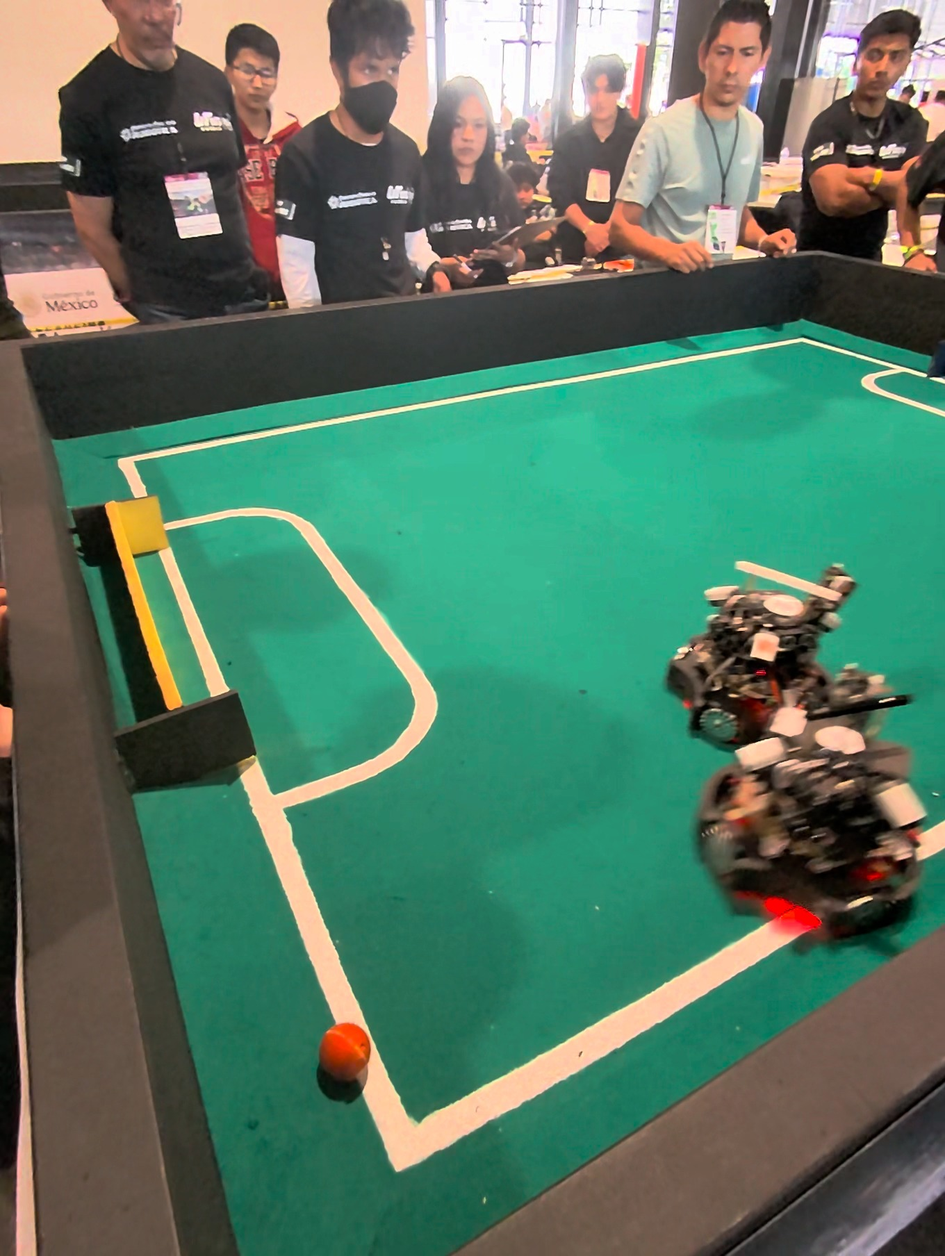Robot: (686, 704, 938, 942), (666, 529, 865, 757)
pelota: (320, 1023, 372, 1100)
